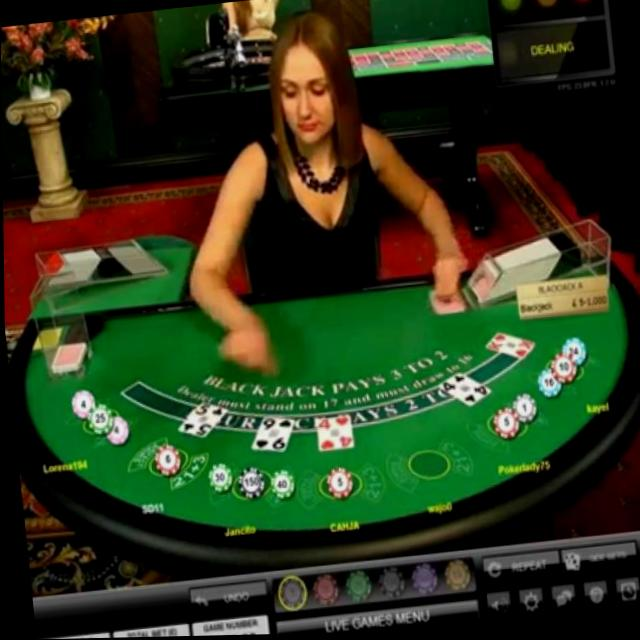Card-4: (437, 373, 490, 409), (314, 416, 352, 451)
Card-5: (175, 400, 226, 438)
Card-9: (250, 415, 294, 454)
Card-K: (484, 331, 533, 362)
